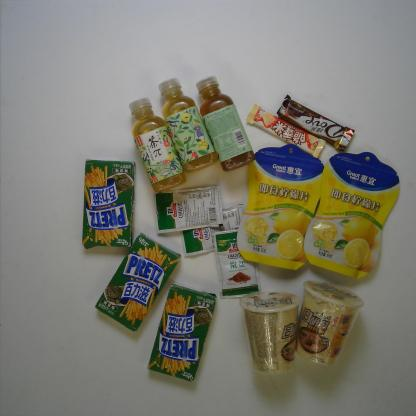Chocolate: (243, 102, 328, 160), (275, 93, 356, 153)
Dessert: (92, 230, 184, 335), (145, 280, 218, 385), (77, 157, 138, 252)
Dried Fruit: (303, 150, 402, 281), (236, 142, 326, 272)
Drink: (156, 75, 222, 175), (194, 74, 257, 173), (127, 94, 188, 195)
Instant Noodles: (294, 278, 367, 370), (238, 287, 300, 378)
Seasoner: (152, 183, 226, 235), (210, 228, 262, 300), (180, 202, 246, 258)
